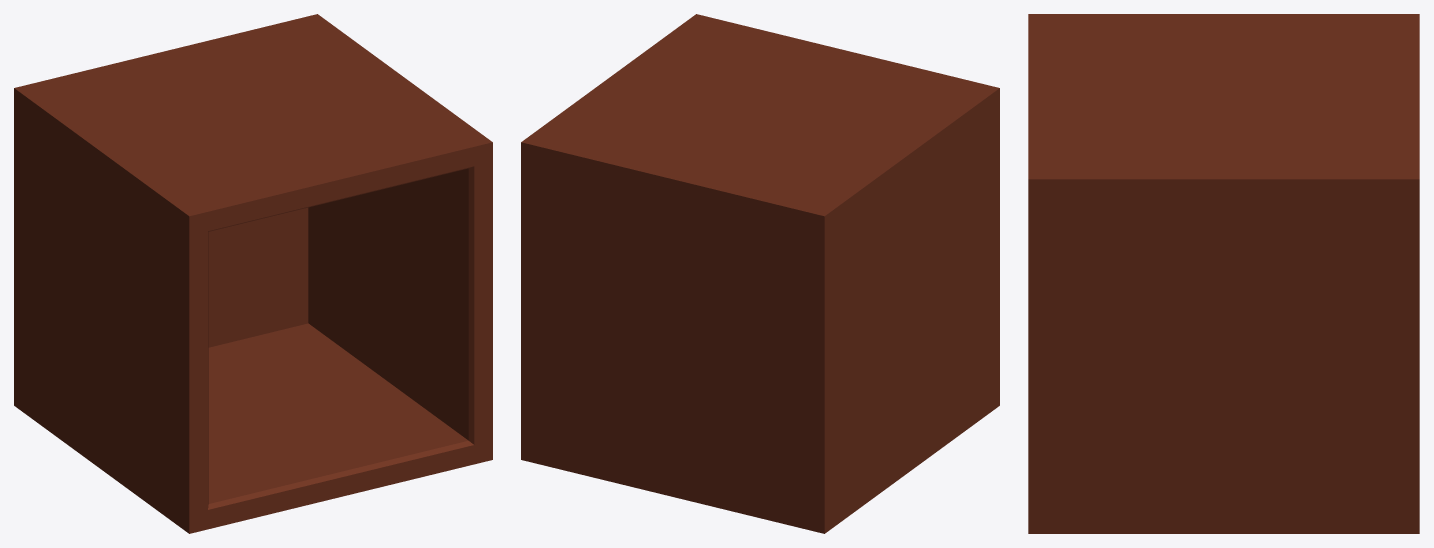
File: Book_Shelves_Mod05.fbx
3 views of the same model, side by side, from view 1: azimuth 30°, elevation 25°; view 2: azimuth 150°, elevation 25°; view 3: azimuth 270°, elevation 25° (orthographic). The views are drawn at different scales.
Visible parts, largest first — view 1: Book_Shelves_Mod05; view 2: Book_Shelves_Mod05; view 3: Book_Shelves_Mod05.
Part boxes in pixels (x1,y1,x2,y2): Book_Shelves_Mod05: (14, 14, 492, 533); Book_Shelves_Mod05: (521, 14, 999, 533); Book_Shelves_Mod05: (1028, 14, 1419, 533).
Bounding box in the file's own units: 70 × 70 × 70.
1 material, 1 textured.
